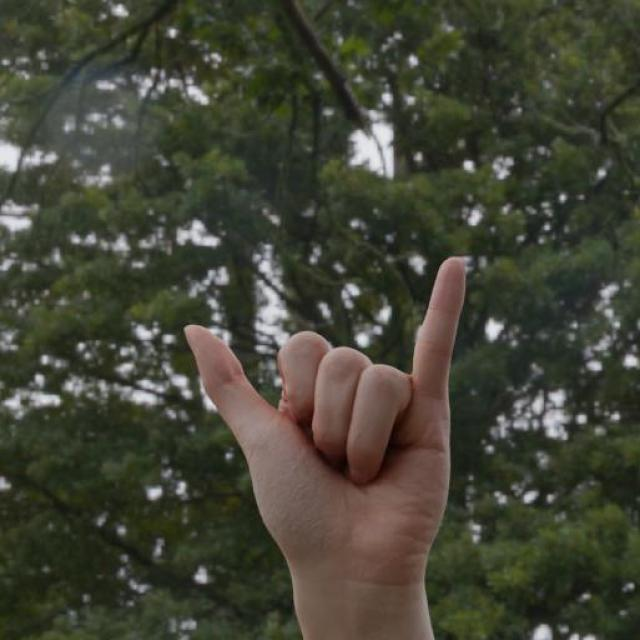Y: (181, 252, 470, 592)
